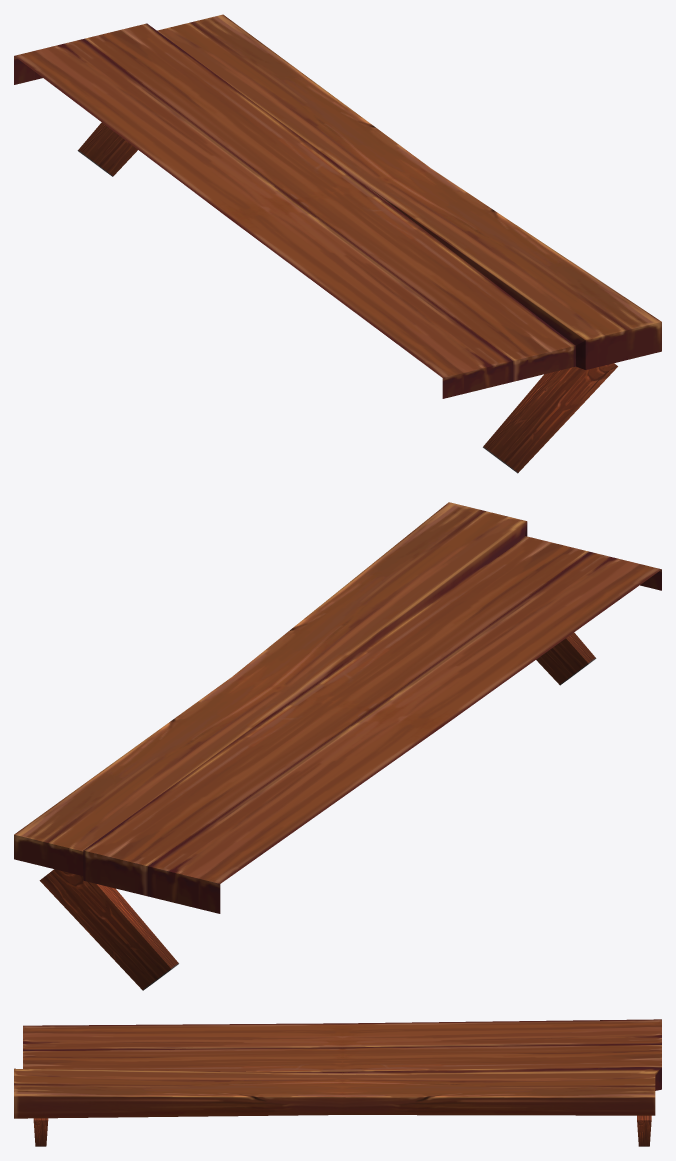
Rendered from ZhuoZi01.FBX.
The picture shows the model from 3 angles, top to bottom: view 1: azimuth 30°, elevation 25°; view 2: azimuth 150°, elevation 25°; view 3: azimuth 270°, elevation 25°; orthographic projection. The views are drawn at different scales.
Visible parts, largest first — view 1: ZhuoZi01; view 2: ZhuoZi01; view 3: ZhuoZi01.
Part boxes in pixels (bbox=[...]): ZhuoZi01: bbox=[14, 14, 661, 473]; ZhuoZi01: bbox=[14, 502, 661, 990]; ZhuoZi01: bbox=[14, 1019, 661, 1146].
Bounding box in the file's own units: 70.67 × 41.38 × 250.
